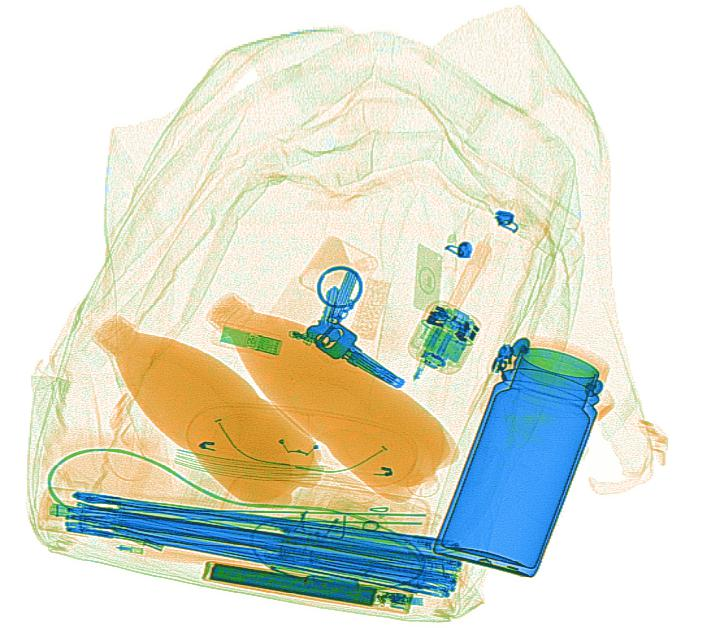USBFlashDisk: (218, 326, 283, 355)
